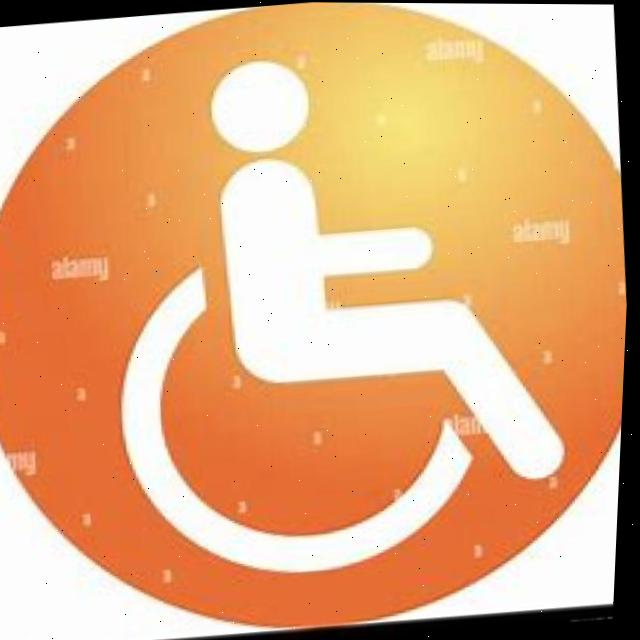symbol_of_access: (91, 35, 593, 596)
